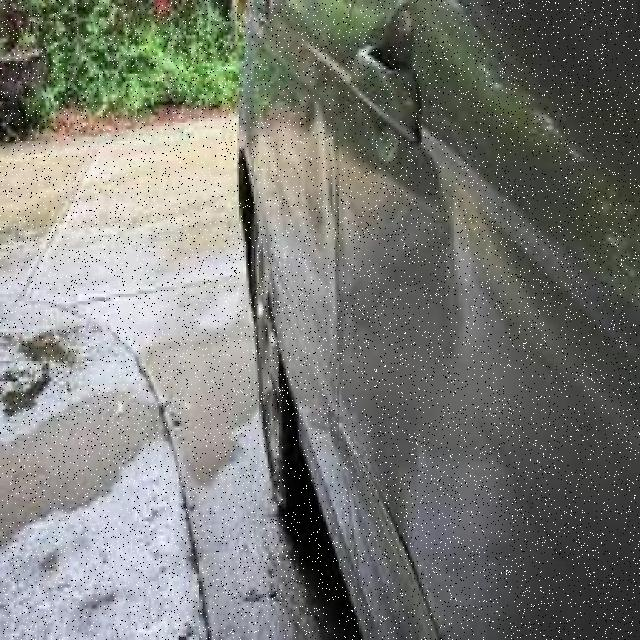damage: (324, 126, 470, 555), (288, 97, 334, 241)
